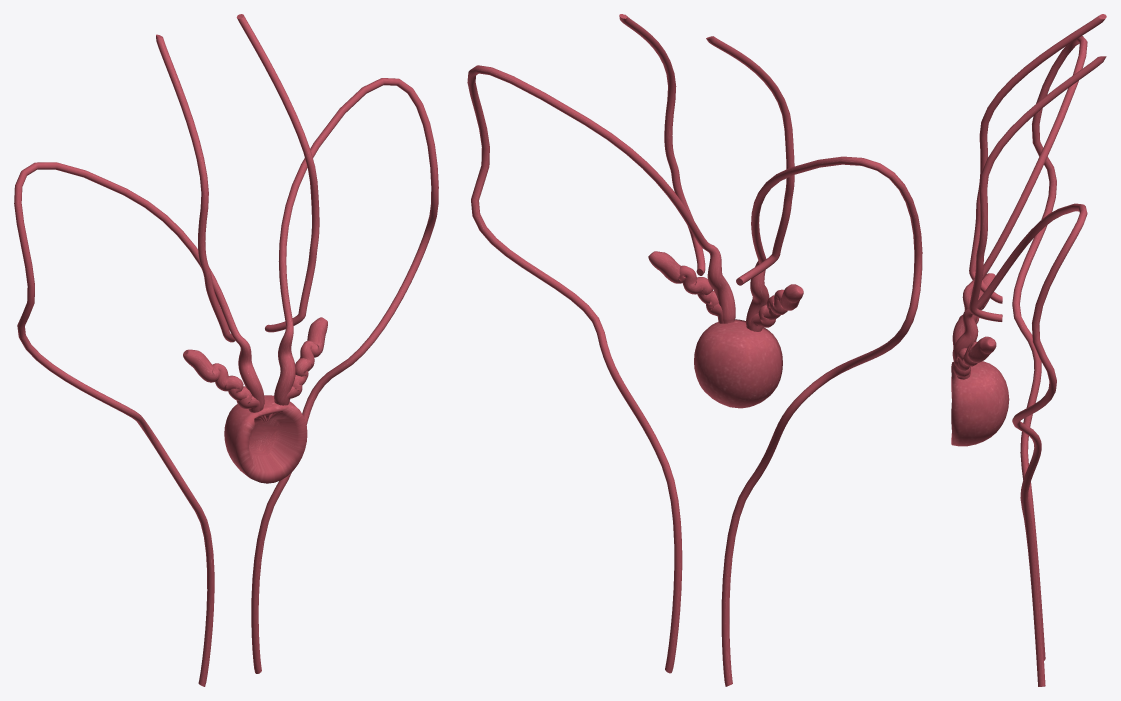
Rendered from Duktus Ejaculatoris.glb.
The picture shows the model from 3 angles, left to right: view 1: azimuth 30°, elevation 25°; view 2: azimuth 150°, elevation 25°; view 3: azimuth 270°, elevation 25°; orthographic projection. The views are drawn at different scales.
Parts seen in each view (by area): view 1: BézierCurve, BézierCurve.001, Cube; view 2: BézierCurve, BézierCurve.001, Cube; view 3: BézierCurve, BézierCurve.001, Cube.
Boxes of the visible parts, x1=… form: BézierCurve: x1=236, y1=14, x2=438, y2=673; BézierCurve.001: x1=14, y1=34, x2=266, y2=686; Cube: x1=224, y1=395, x2=307, y2=483; BézierCurve: x1=467, y1=14, x2=735, y2=673; BézierCurve.001: x1=706, y1=36, x2=922, y2=686; Cube: x1=694, y1=319, x2=782, y2=408; BézierCurve: x1=952, y1=56, x2=1106, y2=686; BézierCurve.001: x1=952, y1=14, x2=1106, y2=660; Cube: x1=951, y1=361, x2=1009, y2=446.
Bounding box in the file's own units: 3.79 × 5.5 × 1.21.
Materials: 2 (2 with a texture image).
